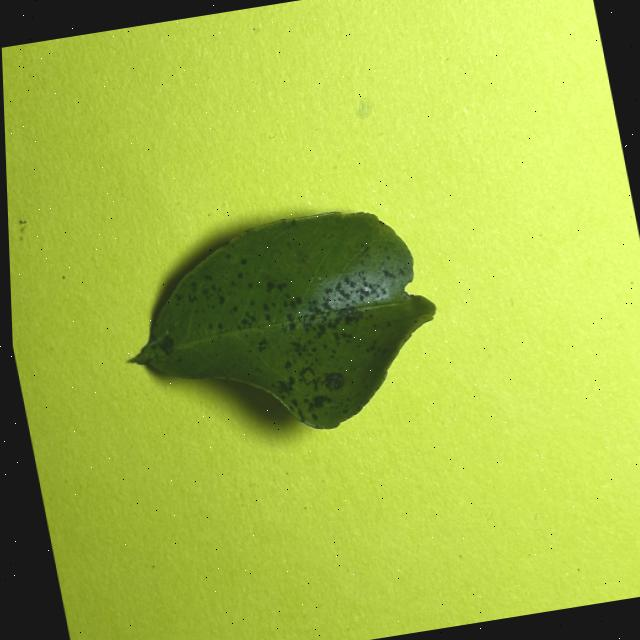sooty_mold: (132, 211, 436, 428)
